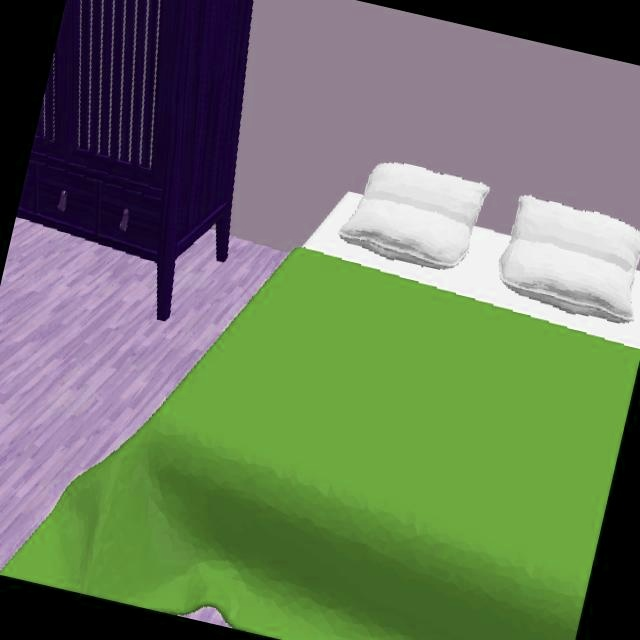bed: (0, 197, 640, 640)
pillow: (497, 195, 640, 325), (339, 163, 489, 272)
wardrobe: (15, 0, 253, 322)
